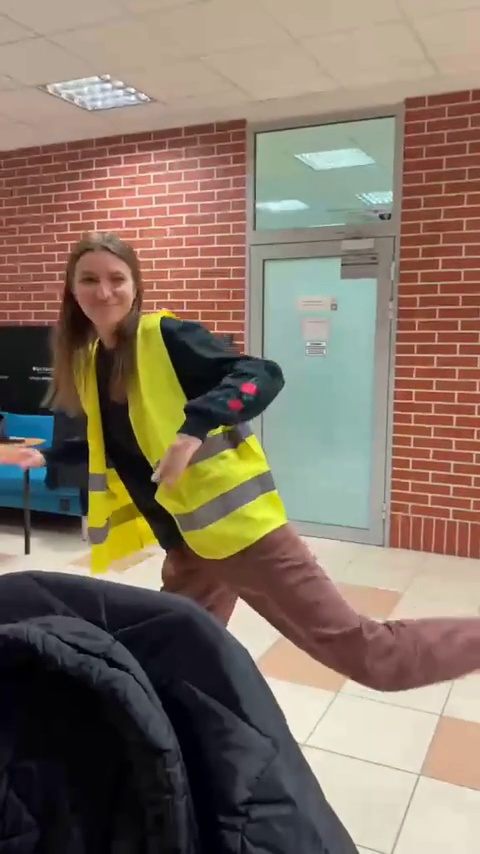vest: (68, 235, 405, 674)
